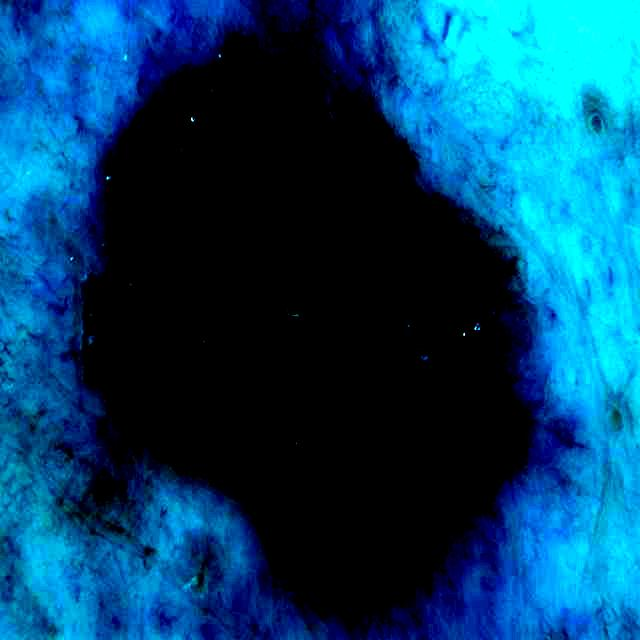BKL: (83, 70, 543, 605)
